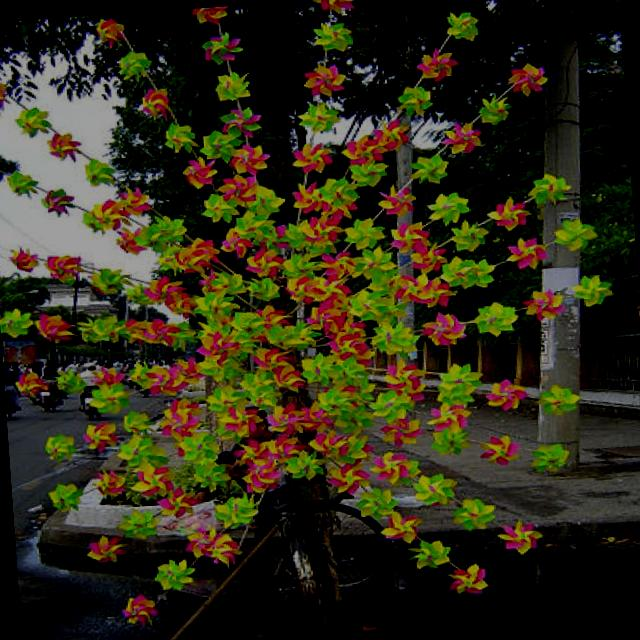Vehicle: (27, 378, 62, 413), (76, 384, 101, 422), (4, 390, 12, 418)
